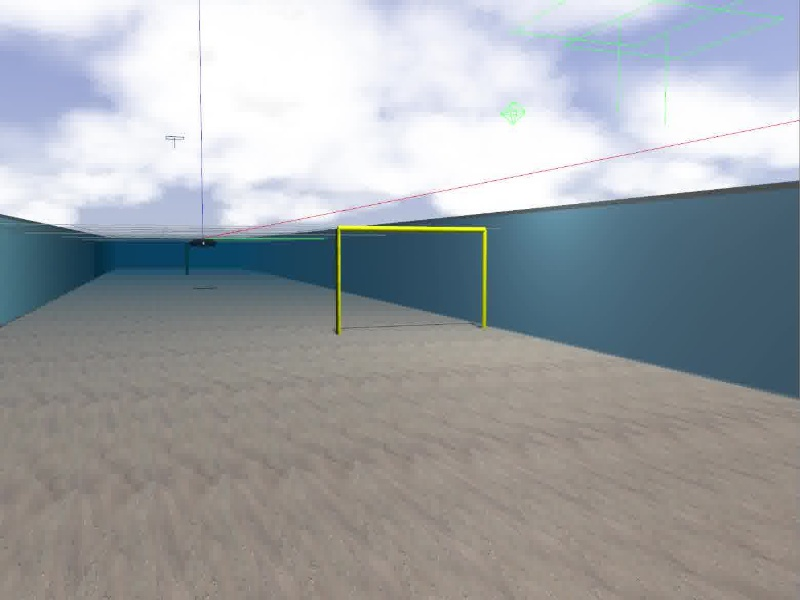gate: (335, 225, 487, 333)
